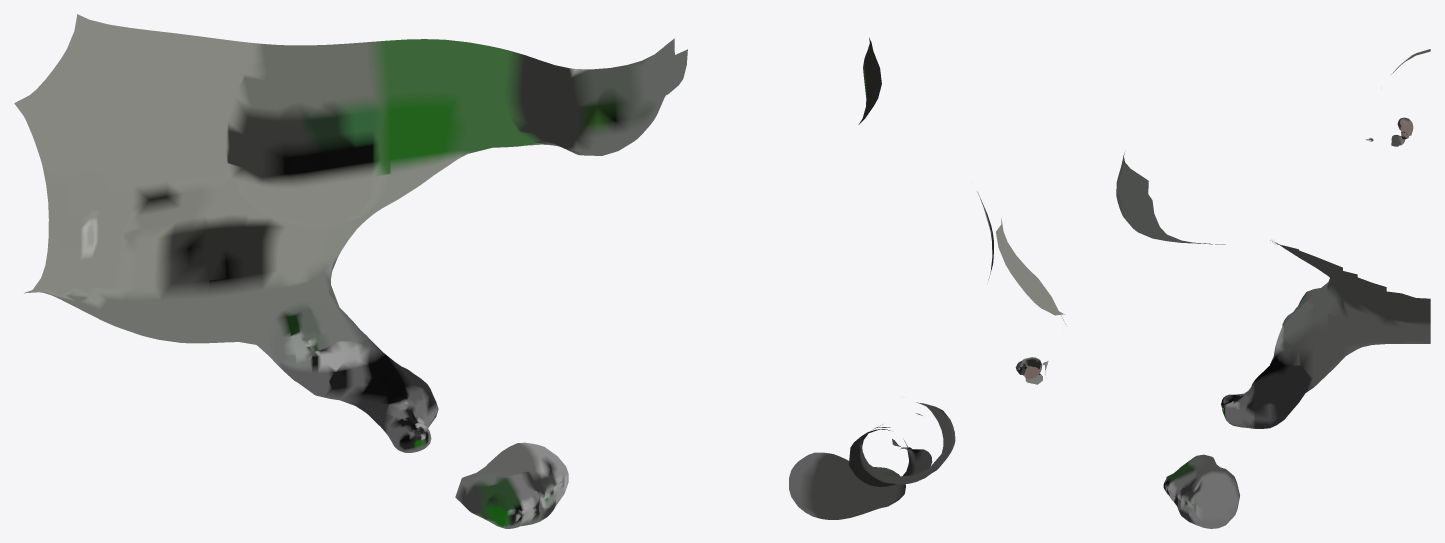
File: inst-38241d_reconstructed.glb
3 views of the same model, side by side, from view 1: azimuth 30°, elevation 25°; view 2: azimuth 150°, elevation 25°; view 3: azimuth 270°, elevation 25° (orthographic). The views are drawn at different scales.
Size of the model in its own units: 261 by 239 by 175.
